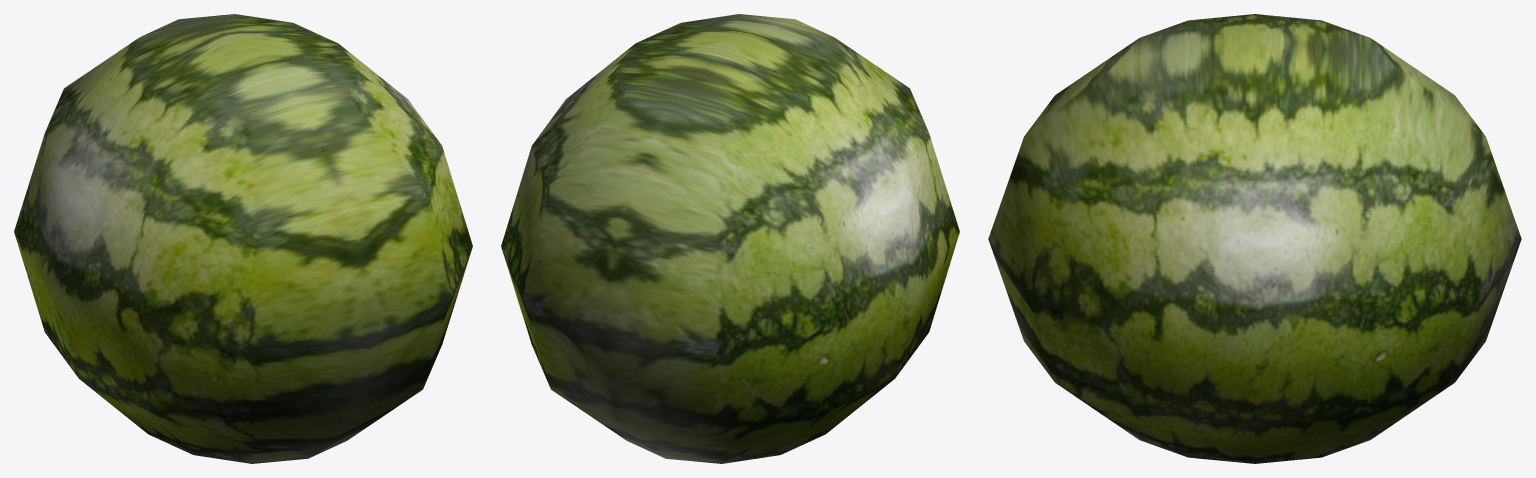
File: watermelon.fbx
The picture shows the model from 3 angles, left to right: view 1: azimuth 30°, elevation 25°; view 2: azimuth 150°, elevation 25°; view 3: azimuth 270°, elevation 25°; orthographic projection. The views are drawn at different scales.
Visible parts, largest first — view 1: watermelon; view 2: watermelon; view 3: watermelon.
Boxes of the visible parts, x1,y1,x2,y2 form: watermelon: [14, 14, 472, 463]; watermelon: [501, 14, 959, 463]; watermelon: [988, 14, 1521, 463].
Size of the model in its own units: 16 by 16 by 18.89.
Materials: 1 (1 with a texture image).
